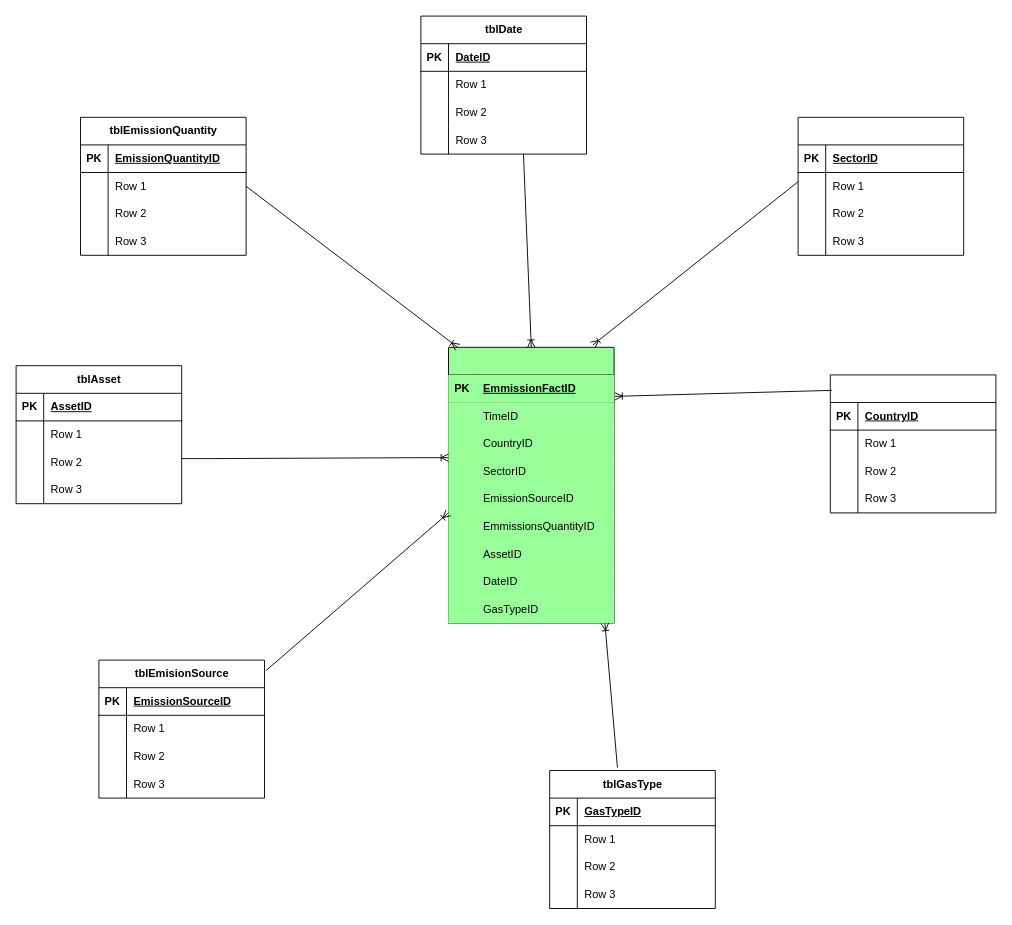
The diagram is 1012 pixels wide and 925 high, and some of its shapes have lost their labels. Each missing label, with the box of its shape:
tblCountry: (829, 374, 996, 513)
tblEmmissionFact: (448, 346, 614, 623)
tblSector: (797, 116, 964, 255)
